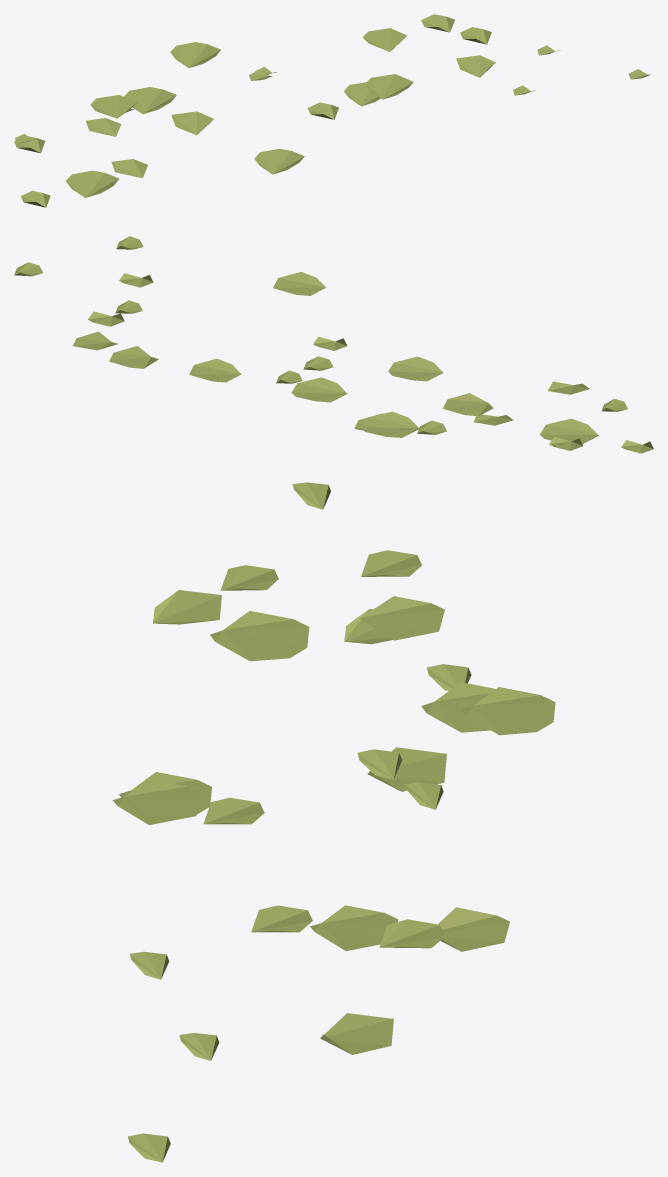
Rendered from xiyuan-vegetation-03-medium.glb.
The picture shows the model from 3 angles, top to bottom: view 1: azimuth 30°, elevation 25°; view 2: azimuth 150°, elevation 25°; view 3: azimuth 270°, elevation 25°; orthographic projection. The views are drawn at different scales.
Parts seen in each view (by area): view 1: scalloped lotus leaves.002; view 2: scalloped lotus leaves.002; view 3: scalloped lotus leaves.002.
Boxes of the visible parts, bbox=[...] form: scalloped lotus leaves.002: bbox=[14, 14, 650, 207]; scalloped lotus leaves.002: bbox=[14, 236, 653, 453]; scalloped lotus leaves.002: bbox=[112, 482, 555, 1162].
Size of the model in its own units: 11.81 by 1.06 by 3.74.
